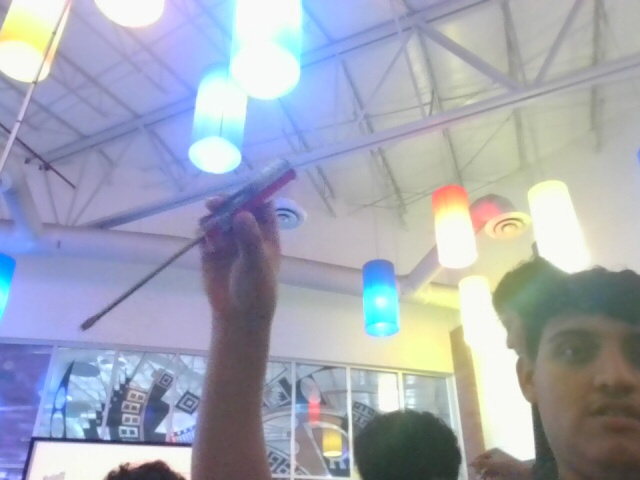destornillador: (76, 162, 297, 331)
